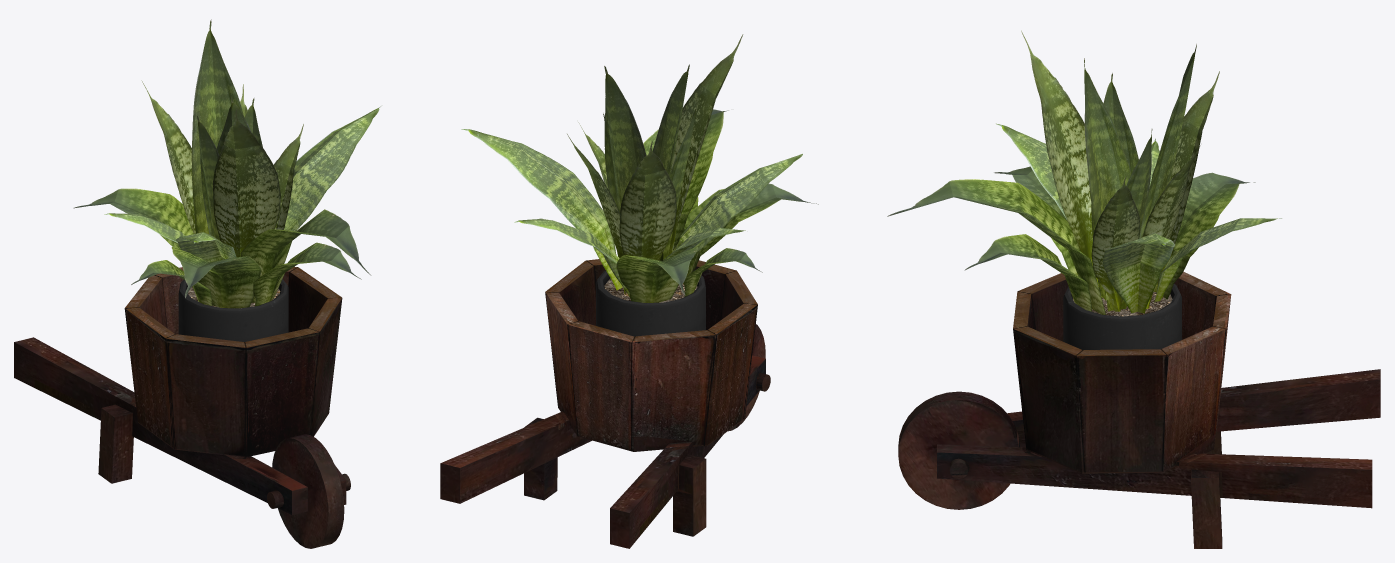
File: vase_wheelbarrow_sansevieria.glb
3 views of the same model, side by side, from view 1: azimuth 30°, elevation 25°; view 2: azimuth 150°, elevation 25°; view 3: azimuth 270°, elevation 25° (orthographic). The views are drawn at different scales.
Parts seen in each view (by area): view 1: Model_Vase_Wheelbarrow_2, Model_Plant_Sansevieria_0, Model_Pot_1; view 2: Model_Vase_Wheelbarrow_2, Model_Plant_Sansevieria_0, Model_Pot_1; view 3: Model_Vase_Wheelbarrow_2, Model_Plant_Sansevieria_0, Model_Pot_1.
Boxes of the visible parts, left/top/right/bottom form: Model_Vase_Wheelbarrow_2: left=14, top=266, right=350, bottom=548; Model_Plant_Sansevieria_0: left=73, top=19, right=380, bottom=308; Model_Pot_1: left=178, top=279, right=288, bottom=341; Model_Vase_Wheelbarrow_2: left=440, top=259, right=770, bottom=548; Model_Plant_Sansevieria_0: left=461, top=34, right=818, bottom=302; Model_Pot_1: left=596, top=270, right=705, bottom=336; Model_Vase_Wheelbarrow_2: left=898, top=271, right=1380, bottom=548; Model_Plant_Sansevieria_0: left=887, top=30, right=1281, bottom=314; Model_Pot_1: left=1063, top=284, right=1181, bottom=349.
Size of the model in its own units: 2.27 by 3.04 by 2.97.
Materials: 4 (4 with a texture image).
